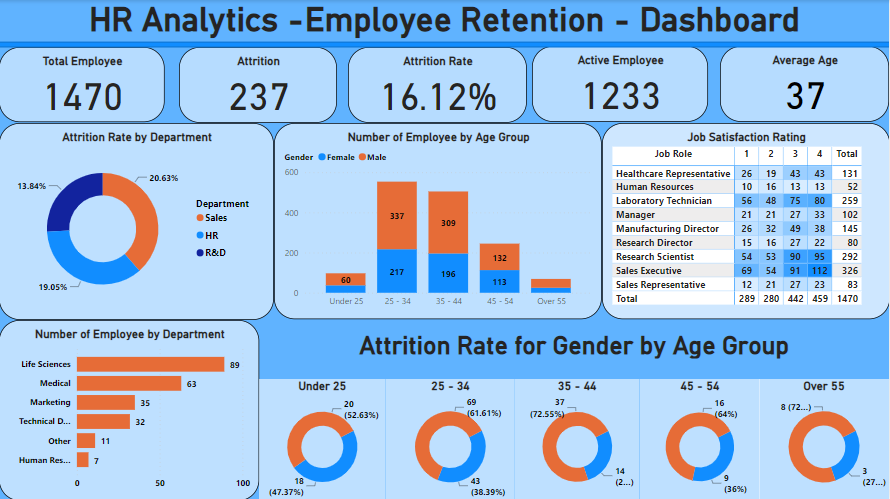

Layout of this report page (visuals, bound fields, positions):
{"tool":"powerbi","page":{"name":"Page 1","canvas":[1280,720],"ordinal":0},"visuals":[{"type":"card","title":"Total Employee","fields":{"Values":["Sum(HR Data xlsx - HR data.Employee Count)"]},"box":[0,67.9,238.4,107.6],"z":0},{"type":"card","title":"Attrition","fields":{"Values":["Sum(HR Data xlsx - HR data.Attrition Count)"]},"box":[258.3,67.9,226.9,109.3],"z":1},{"type":"card","title":"Attrition Rate","fields":{"Values":["HR data.Attrition Rate"]},"box":[501.7,67.9,256.7,109.3],"z":2},{"type":"card","title":"Active Employee","fields":{"Values":["HR data.Active Employee"]},"box":[766.7,66.2,253.4,109.3],"z":3},{"type":"card","title":"Average Age","fields":{"Values":["Avg(HR data.Age)"]},"box":[1036.6,66.2,243.4,109.3],"z":4},{"type":"donutChart","fields":{"Category":["HR data.Department"],"Y":["HR data.Attrition Rate"]},"box":[0,176.8,395.2,283.1],"z":5},{"type":"columnChart","title":"Number of Employee by Age Group","fields":{"Category":["HR data.CF_age band"],"Y":["Sum(HR data.Employee Count)"],"Series":["HR data.Gender"]},"box":[395.2,176.8,471.4,281.7],"z":6},{"type":"pivotTable","title":"Job Satisfaction Rating","fields":{"Values":["Sum(HR data.Employee Count)"],"Rows":["HR data.Job Role"],"Columns":["HR data.Job Satisfaction"]},"box":[866.6,176.8,413.9,281.7],"z":7},{"type":"barChart","title":"Number of Employee by Department","fields":{"Category":["HR data.Education Field"],"Y":["Sum(HR data.Attrition Count)"]},"box":[0,460.3,374.2,260],"z":8},{"type":"donutChart","title":"Under 25","fields":{"Y":["Sum(HR data.Attrition Count)"],"Category":["HR data.Gender"],"Series":["HR data.CF_age band"]},"box":[374.2,544.8,182.1,175.5],"z":9},{"type":"donutChart","title":"25 - 34","fields":{"Y":["Sum(HR data.Attrition Count)"],"Category":["HR data.Gender"],"Series":["HR data.CF_age band"]},"box":[556.4,544.8,185.5,175.5],"z":10},{"type":"donutChart","title":"35 - 44","fields":{"Y":["Sum(HR data.Attrition Count)"],"Category":["HR data.Gender"],"Series":["HR data.CF_age band"]},"box":[741.8,544.8,178.8,175.5],"z":11},{"type":"donutChart","title":"45 - 54","fields":{"Y":["Sum(HR data.Attrition Count)"],"Category":["HR data.Gender"],"Series":["HR data.CF_age band"]},"box":[920.7,544.8,172.2,175.5],"z":12},{"type":"donutChart","title":"Over 55","fields":{"Y":["Sum(HR data.Attrition Count)"],"Category":["HR data.Gender"],"Series":["HR data.CF_age band"]},"box":[1092.9,544.8,187.1,175.5],"z":13},{"type":"shape","title":"Attrition Rate for Gender by Age Group","box":[374.2,473.6,905.8,41.4],"z":14},{"type":"shape","title":"HR Analytics -Employee Retention - Dashboard","box":[0,0,1280.5,67.5],"z":15}]}

Visuals, with their boxes in screenshot pixels (x1, y1, x2, y2), scaled from the page's 1280x720 canvas onto the 890x499 screenshot:
"Total Employee" card: 0,47,166,122
"Attrition" card: 180,47,337,123
"Attrition Rate" card: 349,47,527,123
"Active Employee" card: 533,46,709,122
"Average Age" card: 721,46,889,122
donutChart - HR data.Department x HR data.Attrition Rate: 0,123,275,319
"Number of Employee by Age Group" columnChart: 275,123,603,318
"Job Satisfaction Rating" pivotTable: 603,123,889,318
"Number of Employee by Department" barChart: 0,319,260,498
"Under 25" donutChart: 260,378,387,498
"25 - 34" donutChart: 387,378,516,498
"35 - 44" donutChart: 516,378,640,498
"45 - 54" donutChart: 640,378,760,498
"Over 55" donutChart: 760,378,889,498
"Attrition Rate for Gender by Age Group" shape: 260,328,889,357
"HR Analytics -Employee Retention - Dashboard" shape: 0,0,889,47
